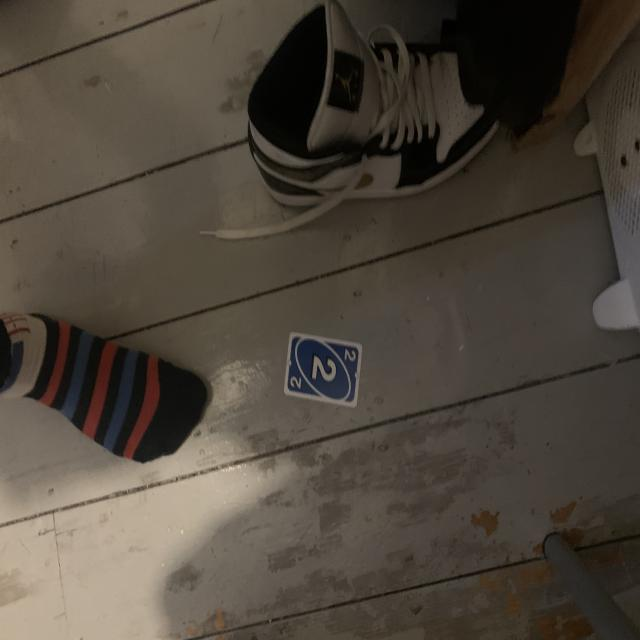lblue-2: (339, 346, 359, 366)
